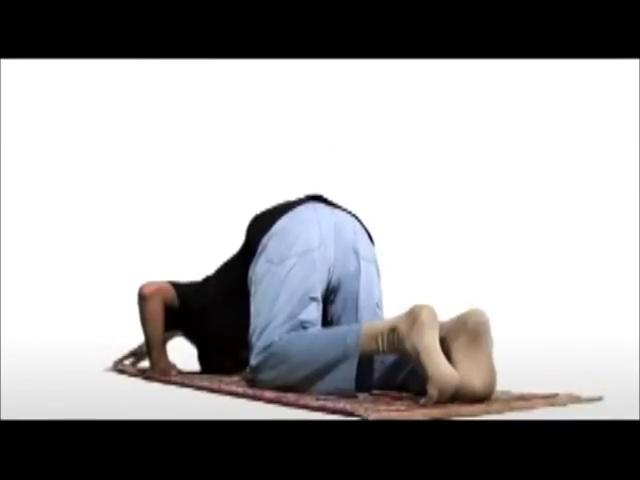sujud: (136, 193, 498, 406)
